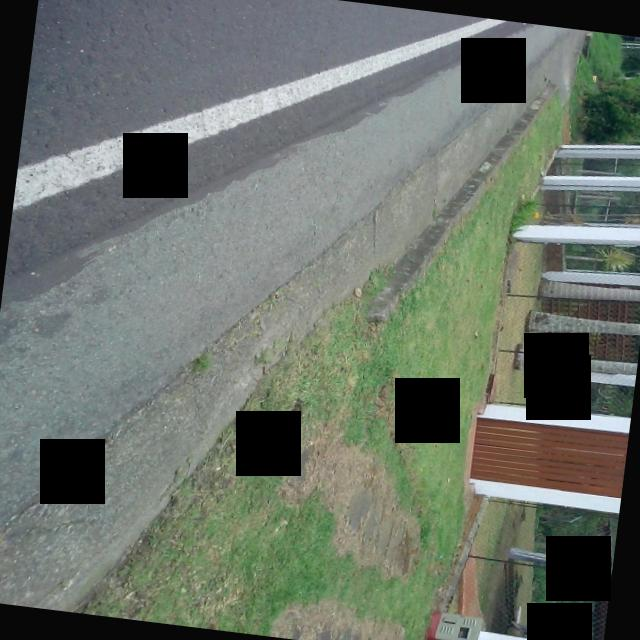DITCH: (0, 0, 635, 640), (0, 4, 609, 640), (0, 0, 585, 640)
